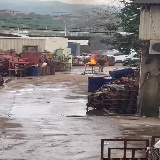fire: (86, 57, 96, 64)
